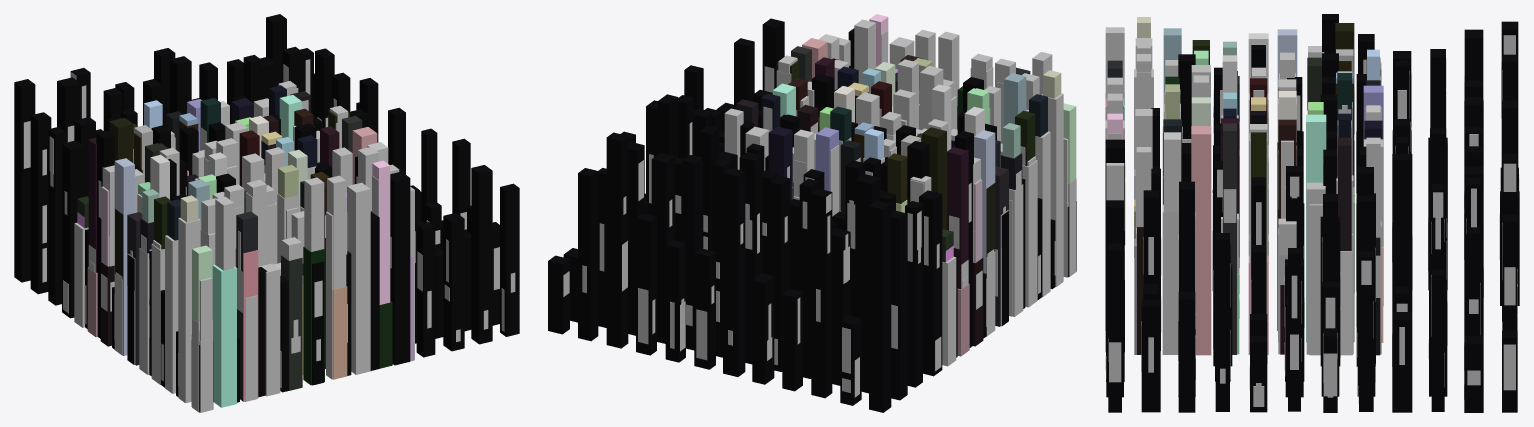
Rendered from buildings.obj.
The picture shows the model from 3 angles, left to right: view 1: azimuth 30°, elevation 25°; view 2: azimuth 150°, elevation 25°; view 3: azimuth 270°, elevation 25°; orthographic projection. The views are drawn at different scales.
Parts seen in each view (by area): view 1: 立方体.1280, 立方体.408, 立方体.593, 立方体.1320, 立方体.050, 立方体.044, 立方体.652, 立方体.532, 立方体.036, 立方体.467, 立方体.040, 立方体.1240 (+87 smaller); view 2: 立方体.050, 立方体.341, 立方体.587, 立方体.167, 立方体.646, 立方体.036, 立方体.103, 立方体.279, 立方体.044, 立方体.523, 立方体.457, 立方体.336 (+82 smaller); view 3: 立方体.1403, 立方体.572, 立方体.666, 立方体.1302, 立方体.689, 立方体.660, 立方体.656, 立方体.698, 立方体.693, 立方体.652, 立方体.1507, 立方体.1180 (+95 smaller).
Part boxes in pixels (bbox=[...]): 立方体.1280: bbox=[347, 182, 370, 374]; 立方体.408: bbox=[390, 171, 410, 365]; 立方体.593: bbox=[471, 165, 492, 344]; 立方体.1320: bbox=[212, 264, 236, 407]; 立方体.050: bbox=[14, 79, 35, 282]; 立方体.044: bbox=[30, 112, 51, 294]; 立方体.652: bbox=[500, 183, 519, 336]; 立方体.532: bbox=[443, 212, 464, 351]; 立方体.036: bbox=[62, 140, 84, 318]; 立方体.467: bbox=[416, 222, 435, 357]; 立方体.040: bbox=[48, 127, 65, 305]; 立方体.1240: bbox=[259, 263, 280, 396]; 立方体.050: bbox=[869, 200, 891, 412]; 立方体.341: bbox=[723, 168, 745, 376]; 立方体.587: bbox=[606, 132, 628, 348]; 立方体.167: bbox=[811, 188, 832, 398]; 立方体.646: bbox=[578, 168, 598, 341]; 立方体.036: bbox=[919, 190, 942, 376]; 立方体.103: bbox=[855, 174, 880, 393]; 立方体.279: bbox=[770, 175, 790, 371]; 立方体.044: bbox=[891, 210, 907, 400]; 立方体.523: bbox=[651, 152, 675, 343]; 立方体.457: bbox=[682, 155, 702, 350]; 立方体.336: bbox=[739, 151, 762, 364]; 立方体.1403: bbox=[1191, 126, 1211, 355]; 立方体.572: bbox=[1392, 154, 1412, 311]; 立方体.666: bbox=[1215, 233, 1229, 411]; 立方体.1302: bbox=[1162, 204, 1178, 354]; 立方体.689: bbox=[1359, 251, 1373, 411]; 立方体.660: bbox=[1178, 291, 1195, 412]; 立方体.656: bbox=[1141, 300, 1160, 412]; 立方体.698: bbox=[1431, 269, 1444, 411]; 立方体.693: bbox=[1392, 312, 1412, 412]; 立方体.652: bbox=[1108, 243, 1121, 412]; 立方体.1507: bbox=[1309, 204, 1322, 355]; 立方体.1180: bbox=[1223, 123, 1236, 354].
Bounding box in the file's own units: 57.84 × 34.93 × 57.78.
